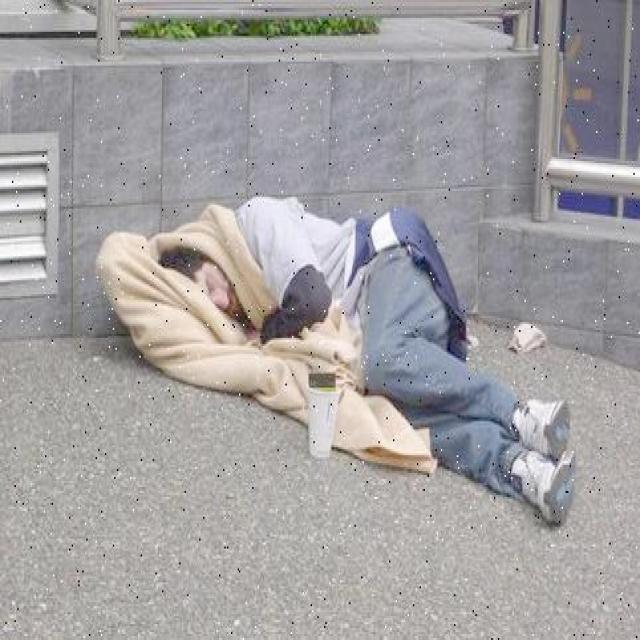fall: (155, 212, 580, 508)
